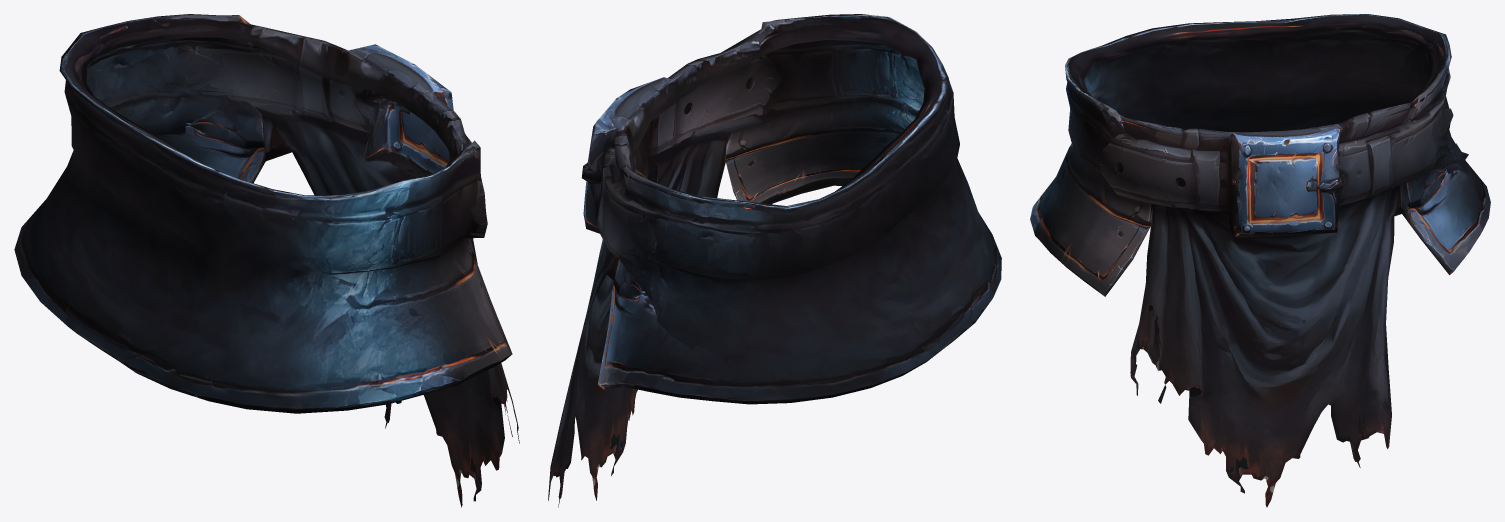
The model's file is waist.glb.
The picture shows the model from 3 angles, left to right: view 1: azimuth 30°, elevation 25°; view 2: azimuth 150°, elevation 25°; view 3: azimuth 270°, elevation 25°; orthographic projection. The views are drawn at different scales.
Parts seen in each view (by area): view 1: tripo_node_d01adc8f-80c8-41de-b104-c6a6cdc71d3a; view 2: tripo_node_d01adc8f-80c8-41de-b104-c6a6cdc71d3a; view 3: tripo_node_d01adc8f-80c8-41de-b104-c6a6cdc71d3a.
Boxes of the visible parts, x1=… form: tripo_node_d01adc8f-80c8-41de-b104-c6a6cdc71d3a: x1=14, y1=14, x2=519, y2=507; tripo_node_d01adc8f-80c8-41de-b104-c6a6cdc71d3a: x1=548, y1=14, x2=1001, y2=507; tripo_node_d01adc8f-80c8-41de-b104-c6a6cdc71d3a: x1=1030, y1=14, x2=1490, y2=507.
Size of the model in its own units: 0.7544 by 0.8892 by 0.9995.
1 material, 1 textured.
